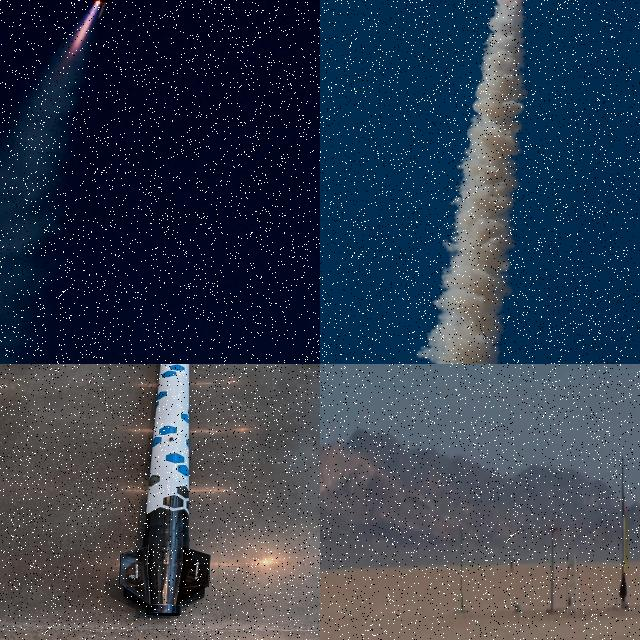Rocket: (119, 364, 211, 617), (617, 454, 628, 602)
